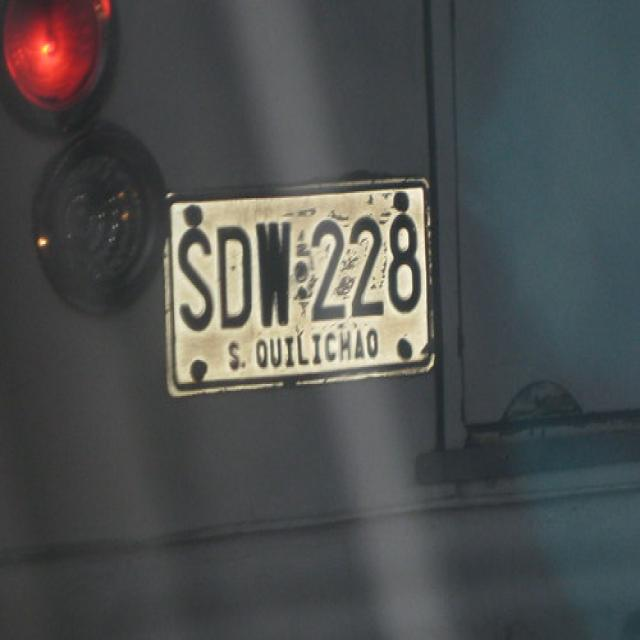placas: (172, 204, 421, 338)
